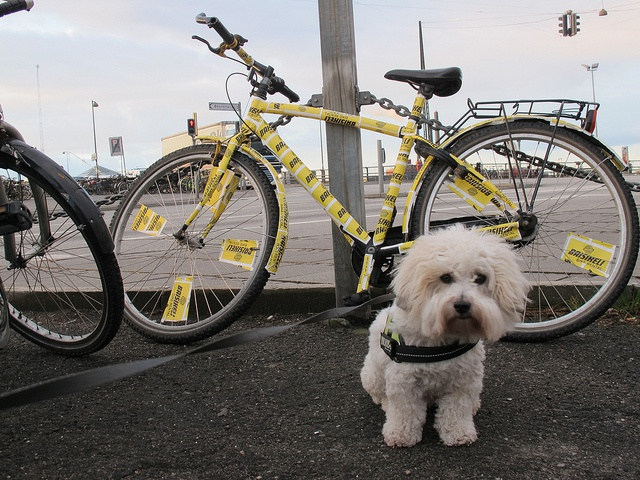non-vehicle: (106, 9, 640, 346), (4, 104, 121, 354)
